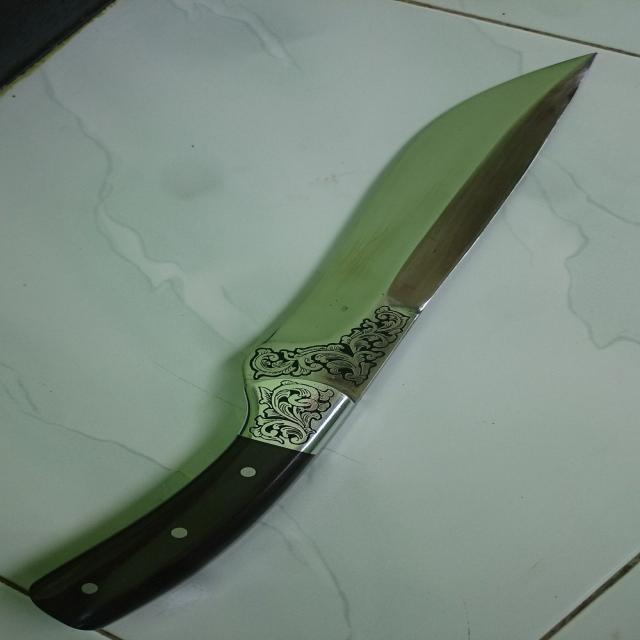Pisau: (21, 40, 620, 629)
